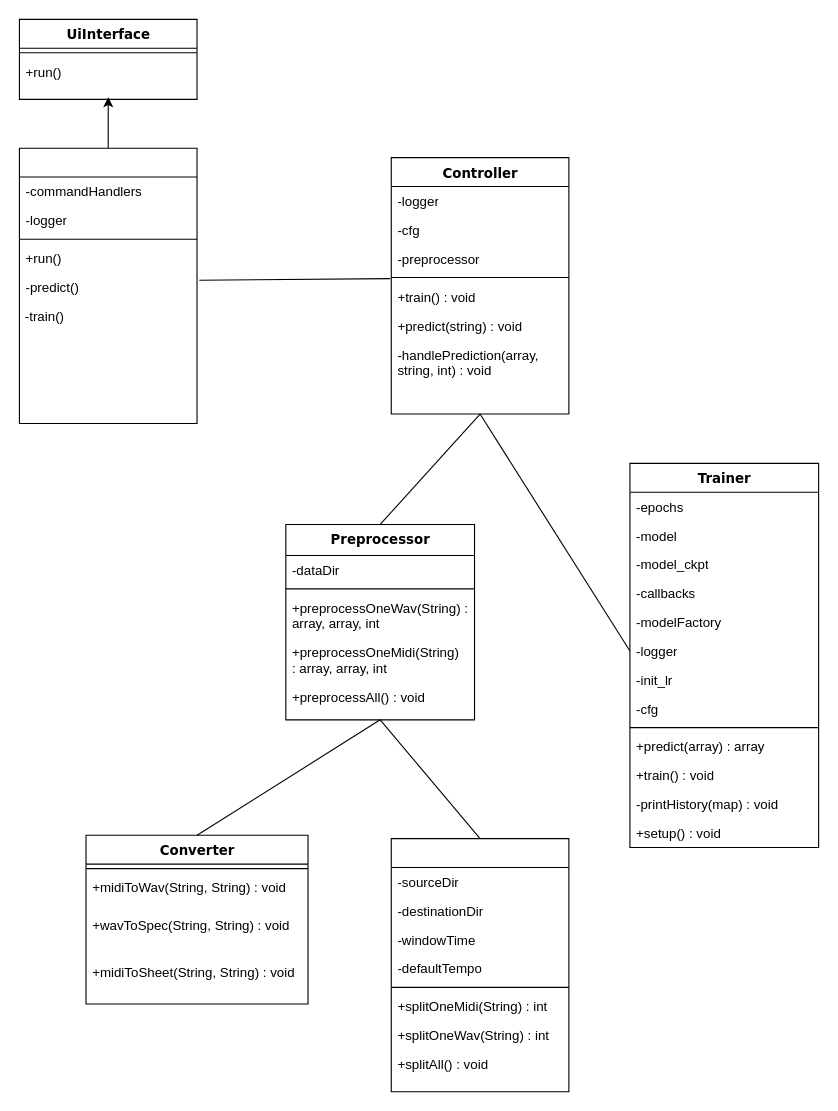
Some shapes in this 838 by 1111 pixel diagram are drawn without their labels. The shapes that lost their labels are listed below. From the top down, each one's box as (x1, y1, x2, y2) in pixels, then its label:
(18, 147, 197, 423): UIMain
(390, 837, 569, 1092): Utils
